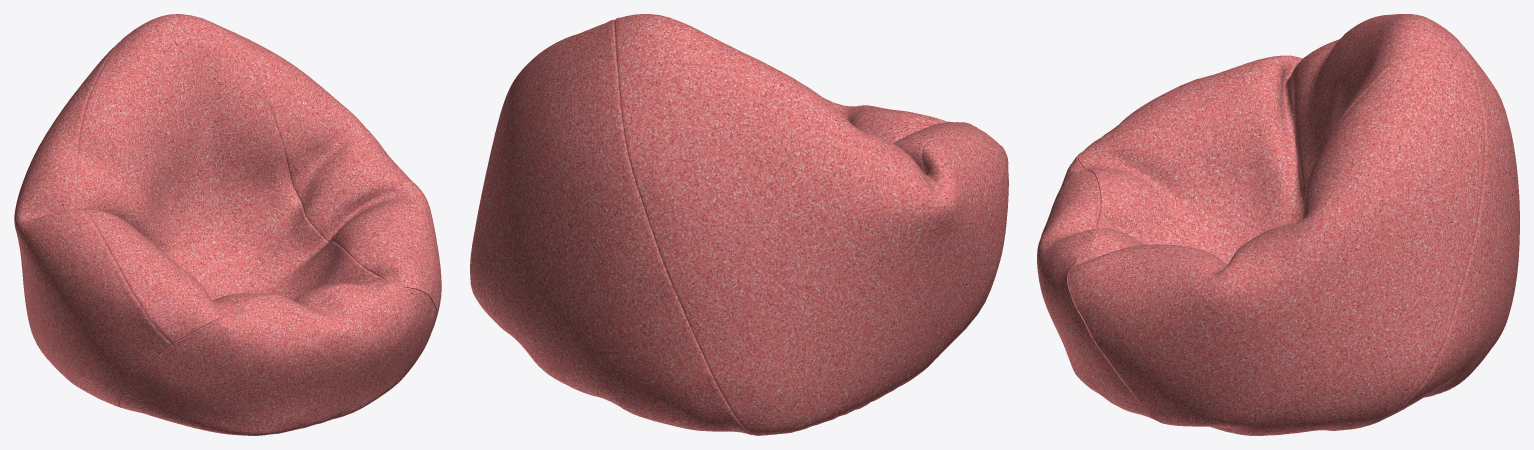
Rendered from beanbag_Choral.gltf.
3 renders of one model, left to right at view 1: azimuth 30°, elevation 25°; view 2: azimuth 150°, elevation 25°; view 3: azimuth 270°, elevation 25°, orthographic. The views are drawn at different scales.
Parts seen in each view (by area): view 1: bean_bag_chair_mesh; view 2: bean_bag_chair_mesh; view 3: bean_bag_chair_mesh.
Boxes of the visible parts, x1=… form: bean_bag_chair_mesh: x1=14, y1=14, x2=441, y2=435; bean_bag_chair_mesh: x1=470, y1=14, x2=1008, y2=435; bean_bag_chair_mesh: x1=1037, y1=14, x2=1519, y2=435.
Size of the model in its own units: 1.29 by 1 by 1.3.
1 material, 1 textured.
